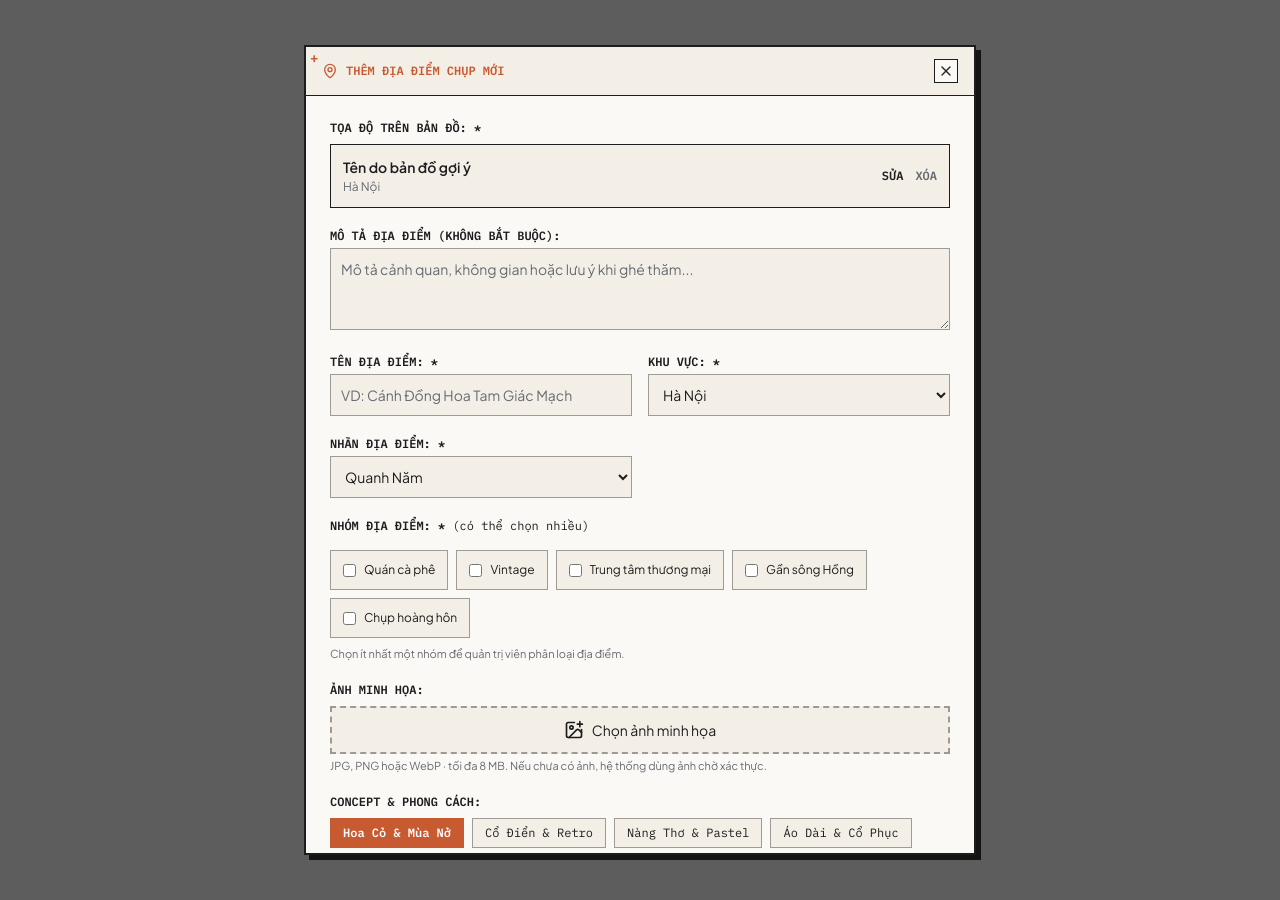
Test: AddSpotModal › requires and submits at least one place category
Type "Vườn hoa" into the field with placeholder "VD: Cánh Đồng Hoa Tam Giác Mạch" at (481, 395), box [330,374,632,416]
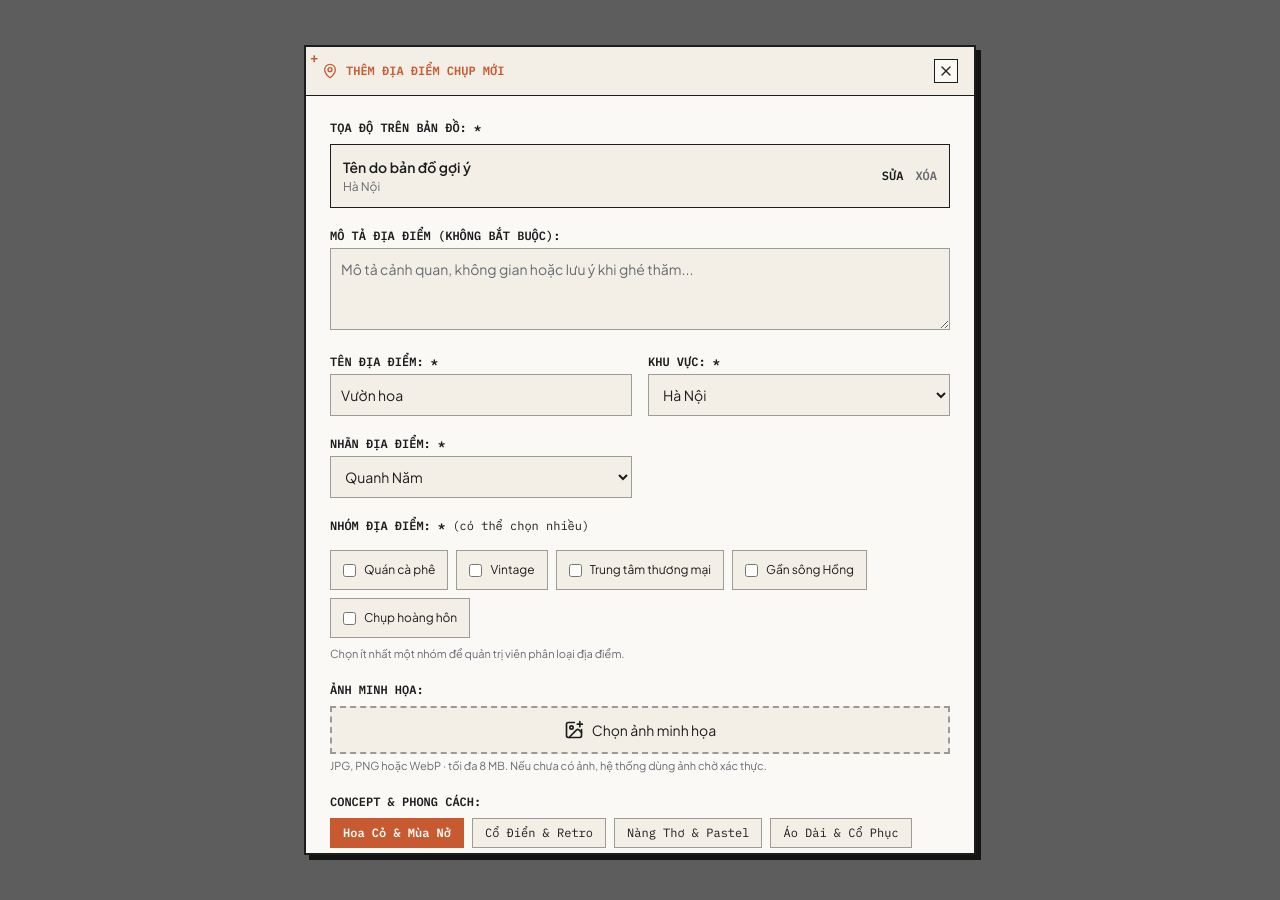
Click the checkbox named "Nhóm địa điểm: Quán cà phê" at (350, 570), box [343,564,356,576]
(page scrolled)
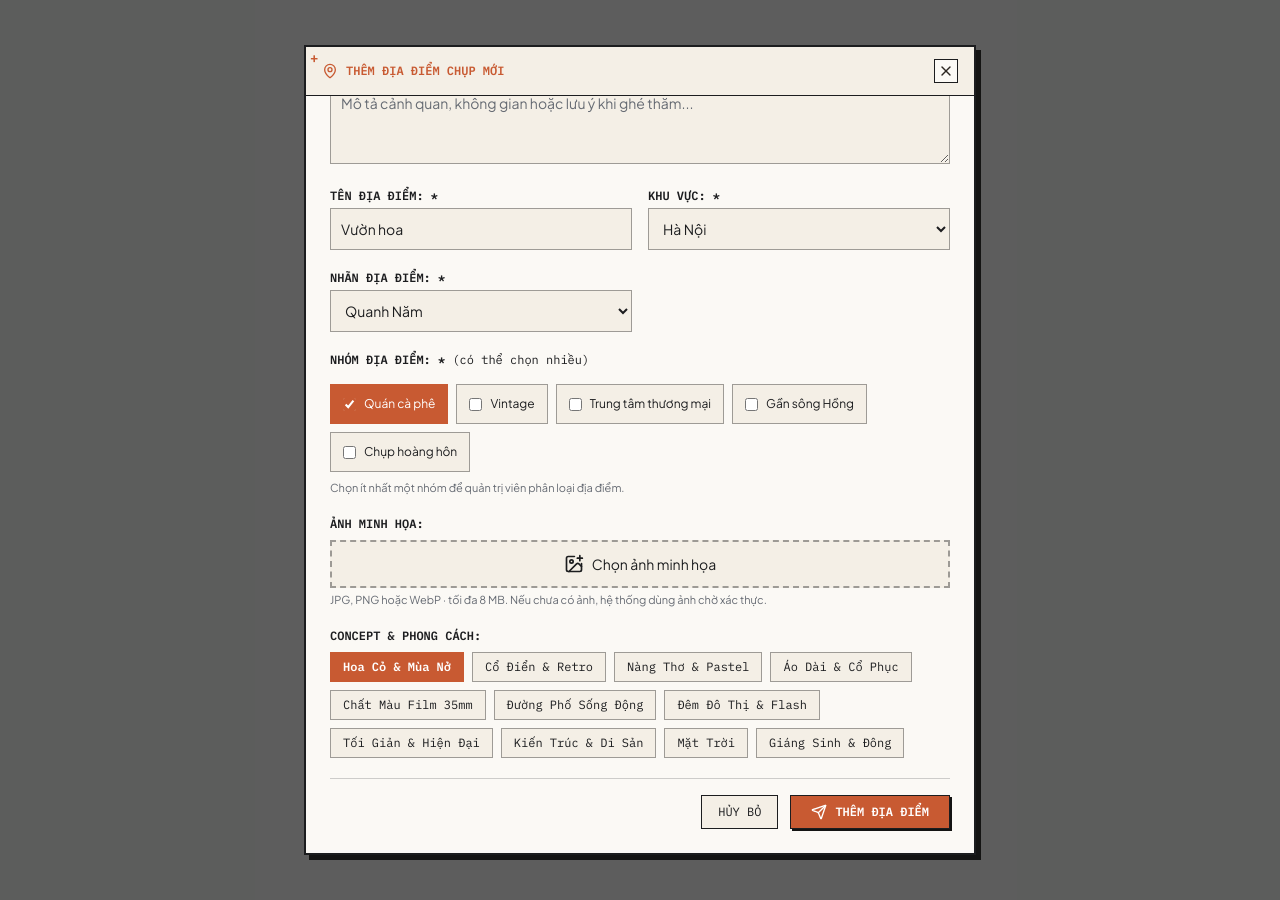
Expected: the button "THÊM ĐỊA ĐIỂM" is enabled
Click the button "THÊM ĐỊA ĐIỂM" at (870, 812), box [790,795,950,829]
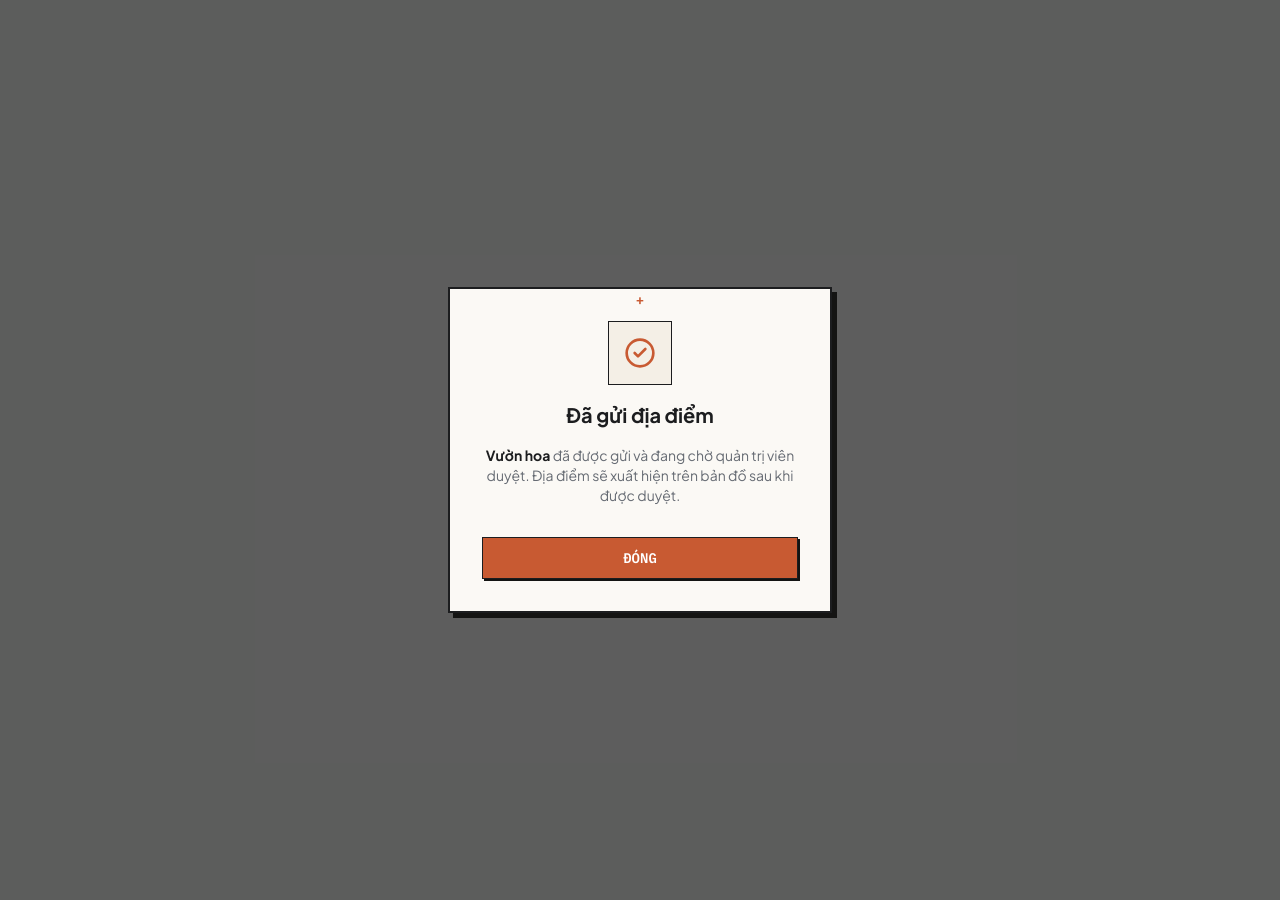
Expected: the text "đang chờ quản trị viên duyệt" is shown, [487,446,794,504]
